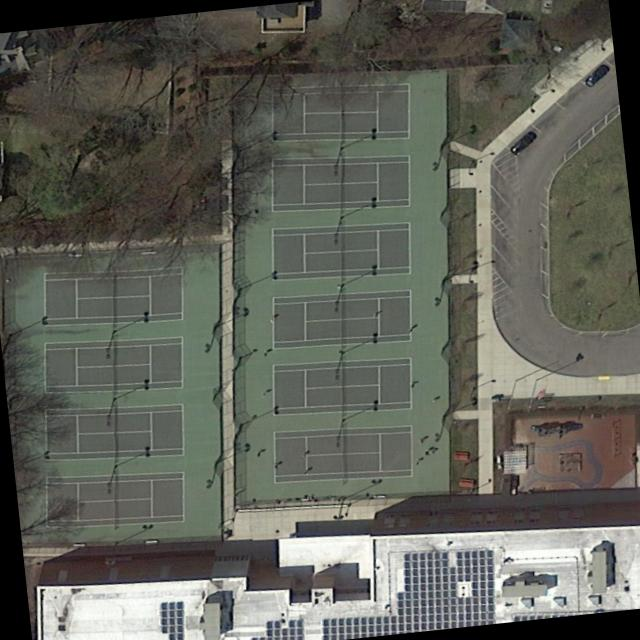small-vehicle: (580, 60, 613, 87), (508, 127, 540, 154), (540, 0, 555, 14)
